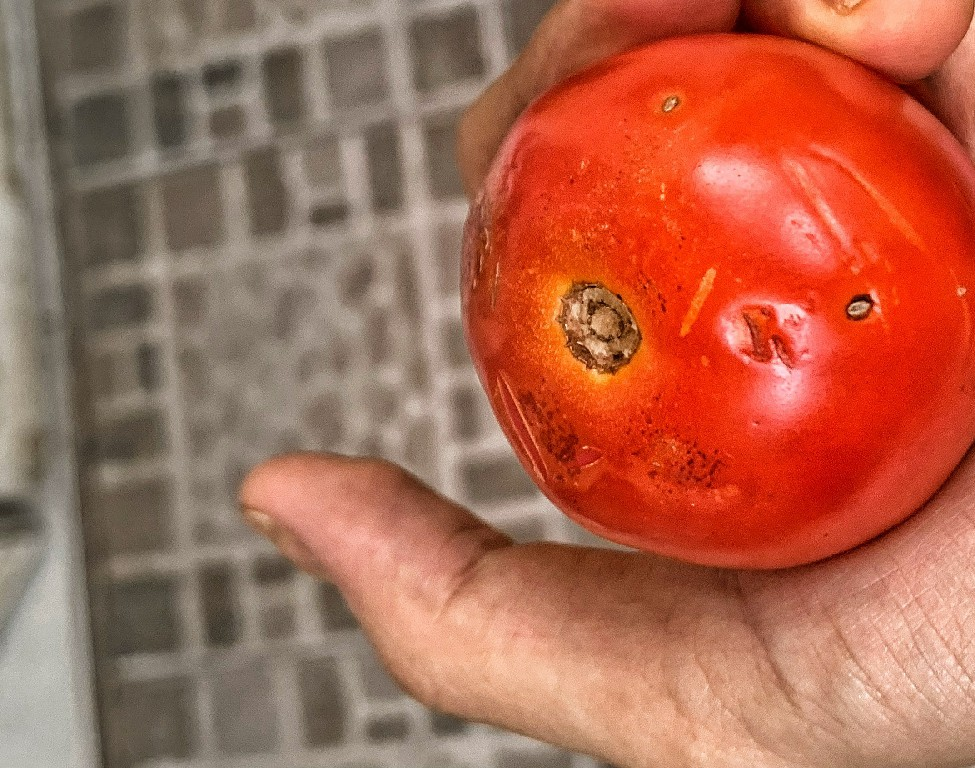NG: (454, 26, 969, 572)
